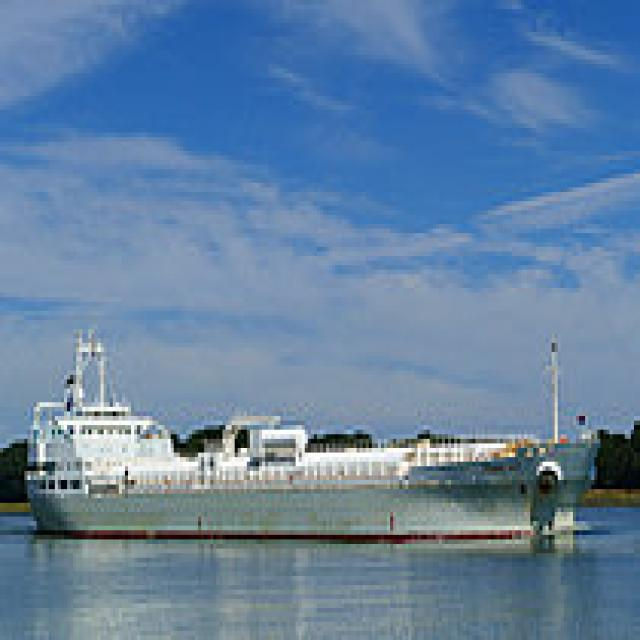Tanker: (22, 315, 594, 544)
